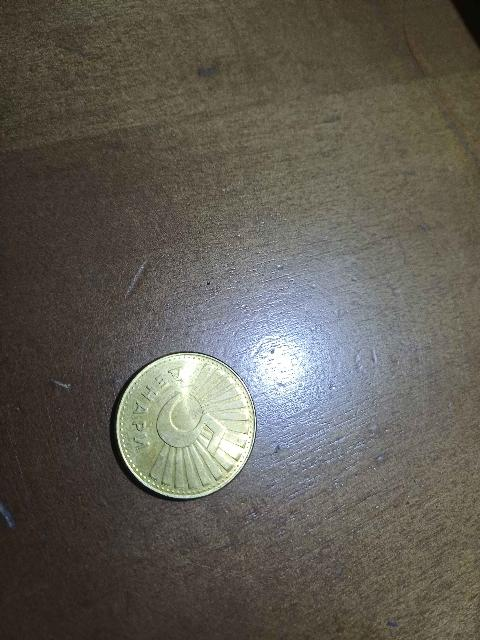5_coin: (117, 355, 260, 498)
